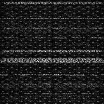lte: (1, 57, 104, 63), (1, 49, 104, 53), (1, 1, 104, 5)
